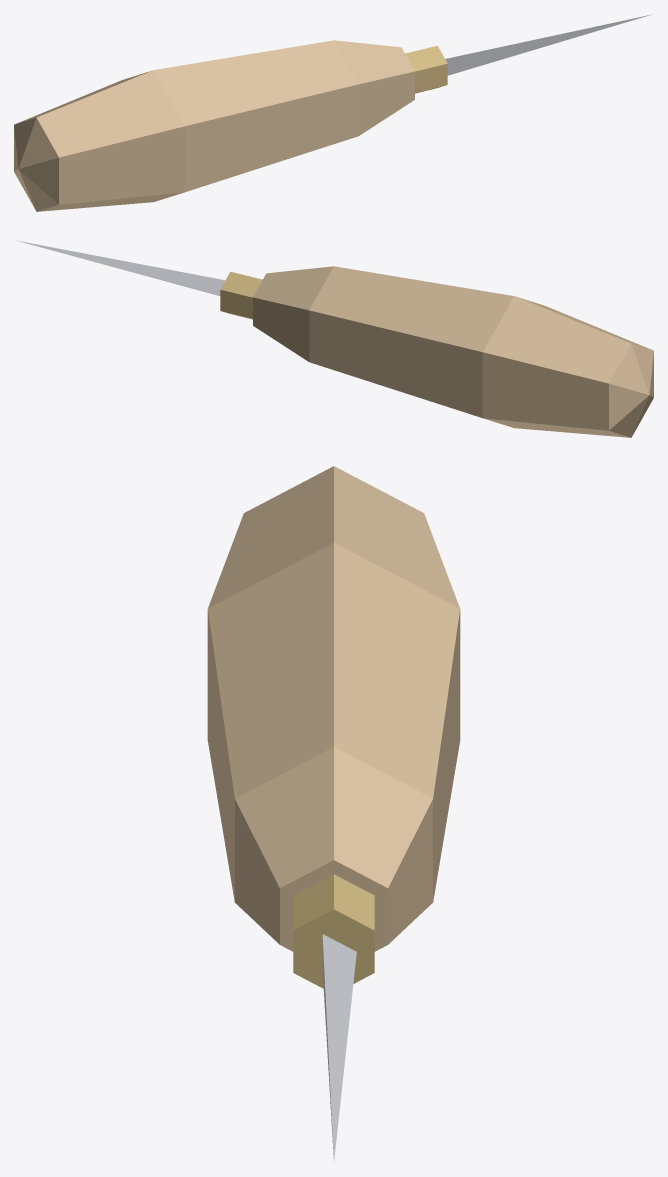
Rendered from prop-stitch-awl-gl1.fbx.
The picture shows the model from 3 angles, top to bottom: view 1: azimuth 30°, elevation 25°; view 2: azimuth 150°, elevation 25°; view 3: azimuth 270°, elevation 25°; orthographic projection. The views are drawn at different scales.
Parts seen in each view (by area): view 1: prop-stitch-awl-gl1; view 2: prop-stitch-awl-gl1; view 3: prop-stitch-awl-gl1.
Boxes of the visible parts, bbox=[...] form: prop-stitch-awl-gl1: bbox=[14, 14, 652, 211]; prop-stitch-awl-gl1: bbox=[16, 240, 653, 437]; prop-stitch-awl-gl1: bbox=[207, 466, 460, 1160].
Size of the model in its own units: 14.1 by 2.8 by 2.42.
